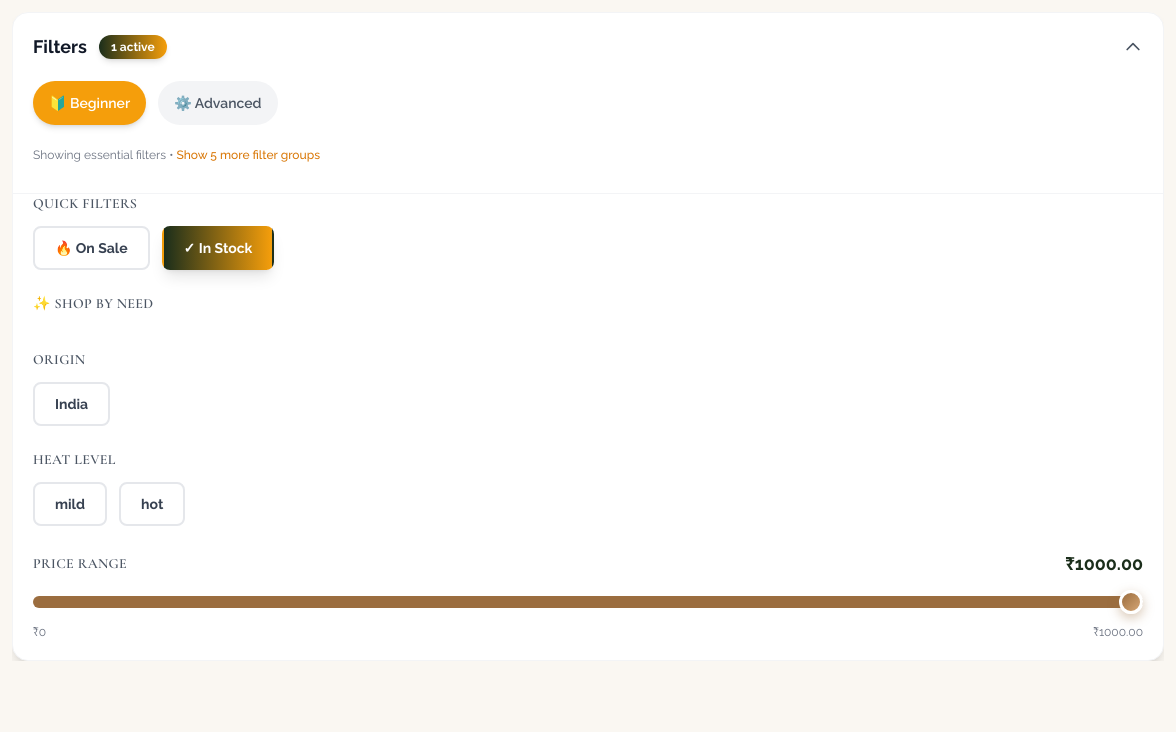
Test: AdvancedFilters › collapses sections when header is clicked
This screenshot has width=1176, height=732.
Click the button "Filters 1 active": (60, 46) [13,13,1163,81]
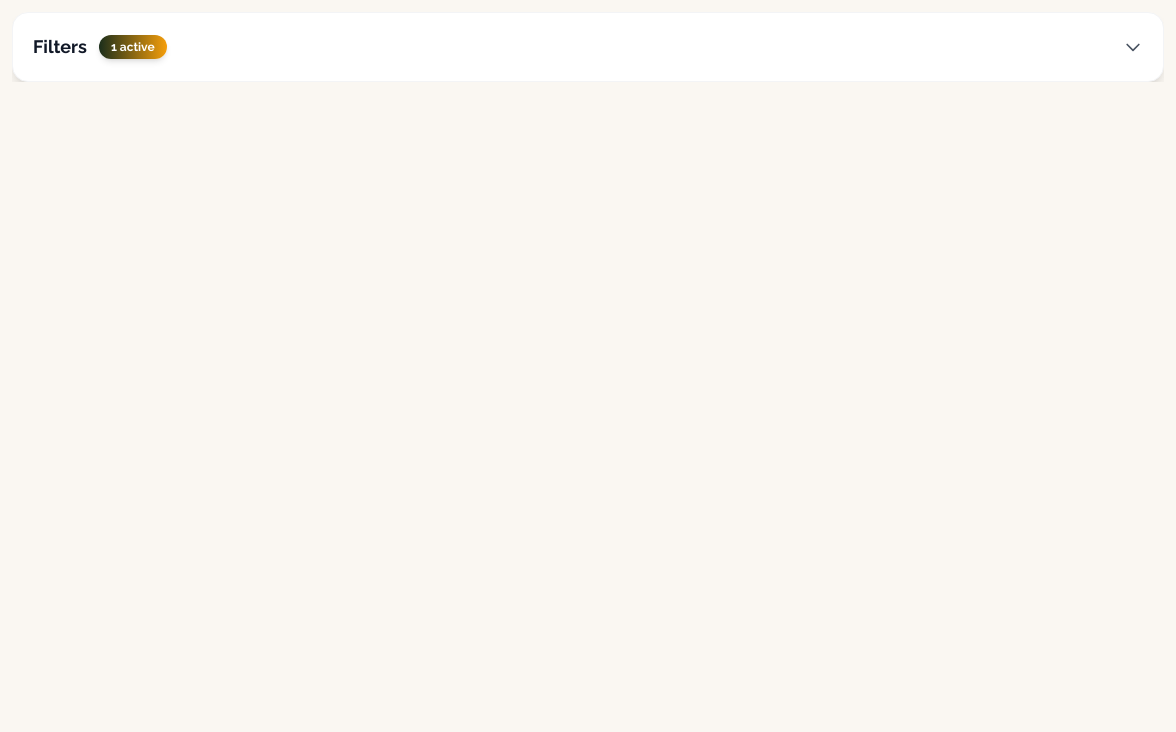
Result: the button "Filters 1 active" is collapsed at [13,13,1163,81]
